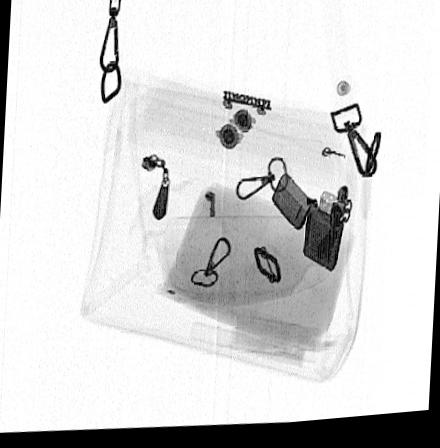Lighter: (271, 177, 351, 278)
